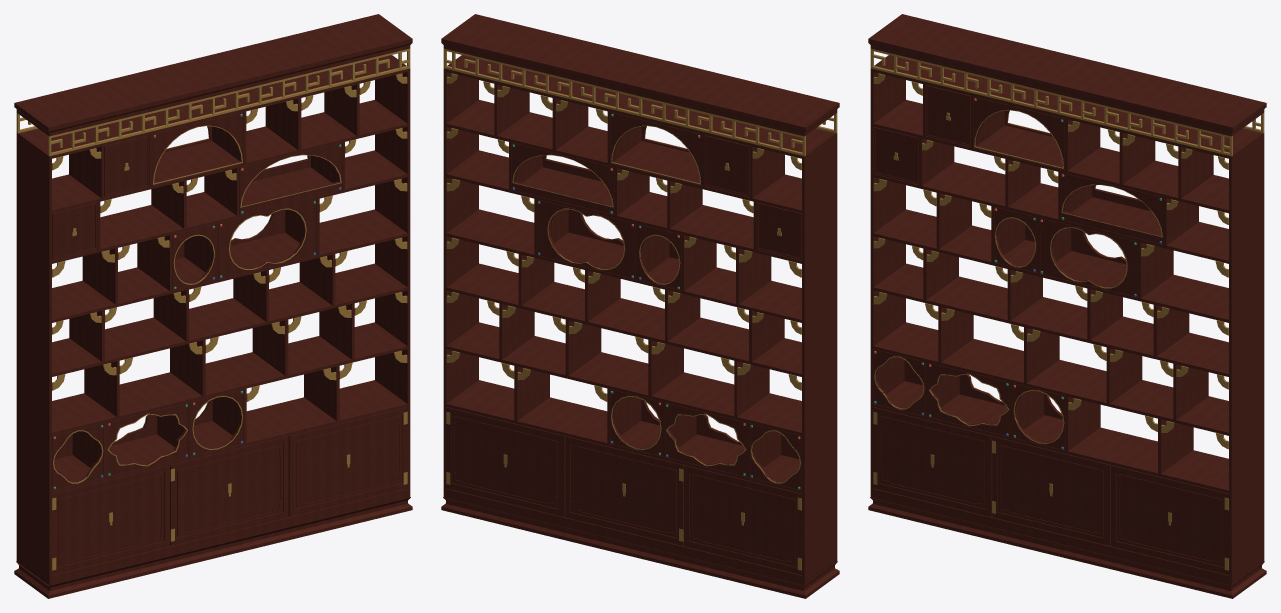
The model's file is shijinge-v1-c.glb.
3 renders of one model, left to right at view 1: azimuth 30°, elevation 25°; view 2: azimuth 150°, elevation 25°; view 3: azimuth 330°, elevation 25°, orthographic.
Visible parts, largest first — view 1: shijinge_c_wood, shijinge_c_side, shijinge_c_gold; view 2: shijinge_c_wood, shijinge_c_side, shijinge_c_gold; view 3: shijinge_c_wood, shijinge_c_side, shijinge_c_gold.
Boxes of the visible parts, x1,y1,x2,y2 form: shijinge_c_wood: (14,14,412,598); shijinge_c_side: (17,136,47,578); shijinge_c_gold: (16,48,410,570); shijinge_c_wood: (441,14,839,598); shijinge_c_side: (806,136,836,578); shijinge_c_gold: (443,48,837,570); shijinge_c_wood: (868,14,1266,598); shijinge_c_side: (1233,136,1263,578); shijinge_c_gold: (870,48,1264,570).
Size of the model in its own units: 2.57 by 3.18 by 0.4185.
4 materials, 1 textured.
